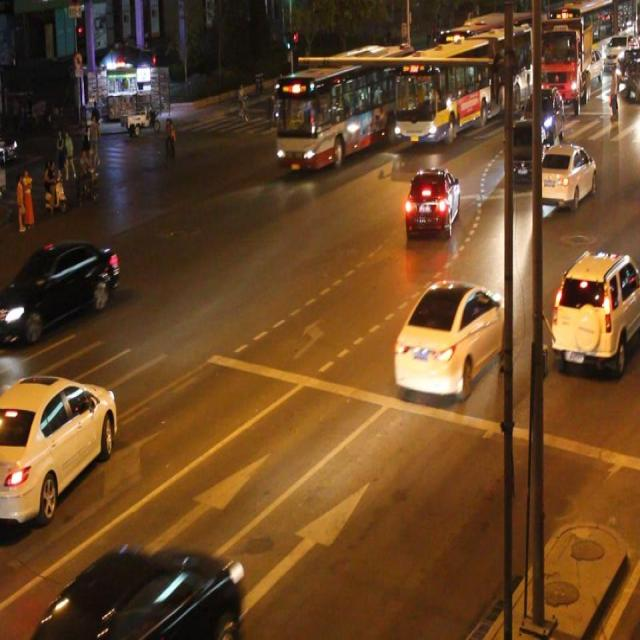car: (32, 541, 240, 640), (1, 375, 117, 519), (393, 278, 511, 392), (1, 240, 118, 342), (548, 251, 640, 365), (403, 167, 460, 240), (533, 142, 594, 203), (502, 120, 544, 187)
van: (276, 47, 411, 159), (394, 29, 531, 133)
